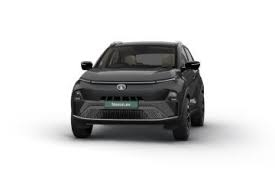Tata Nexon: (70, 39, 206, 142)
